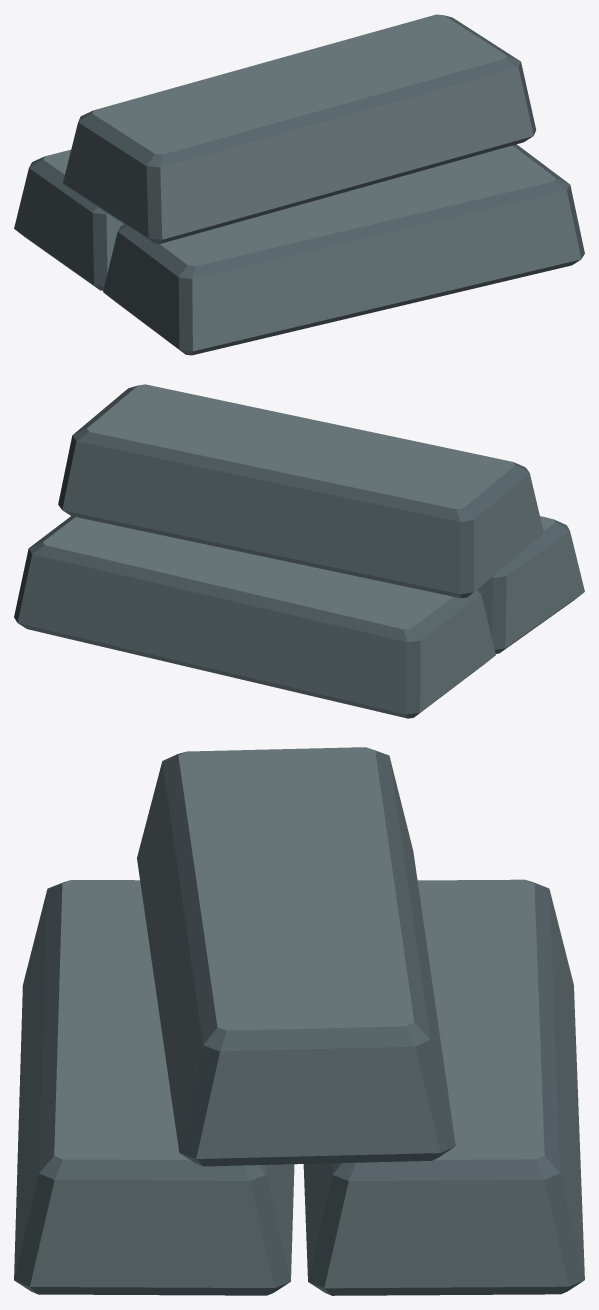
File: SM_Silver_ingots.glb
The picture shows the model from 3 angles, top to bottom: view 1: azimuth 30°, elevation 25°; view 2: azimuth 150°, elevation 25°; view 3: azimuth 270°, elevation 25°; orthographic projection. The views are drawn at different scales.
Parts seen in each view (by area): view 1: SM_Silver_ingots; view 2: SM_Silver_ingots; view 3: SM_Silver_ingots.
Part boxes in pixels (<box>): SM_Silver_ingots: <box>14,14,584,355</box>; SM_Silver_ingots: <box>14,384,584,718</box>; SM_Silver_ingots: <box>14,747,584,1295</box>.
Size of the model in its own units: 0.65 by 0.25 by 0.5.
Materials: 1 (1 with a texture image).
